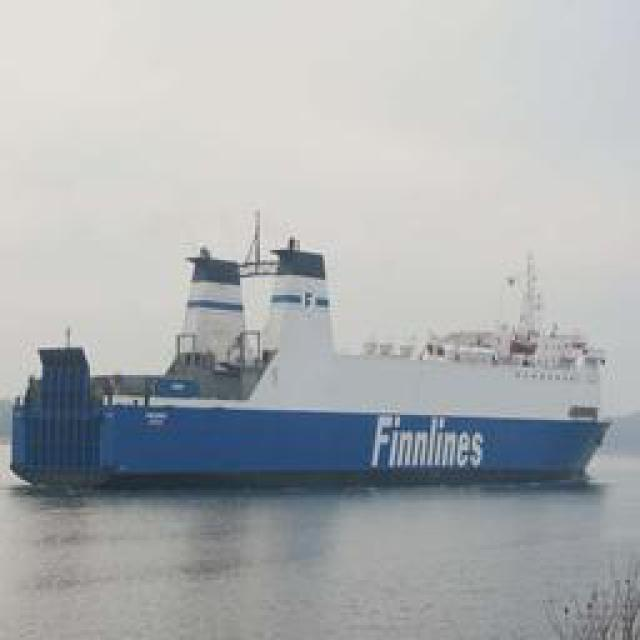Ship: (29, 223, 619, 491)
